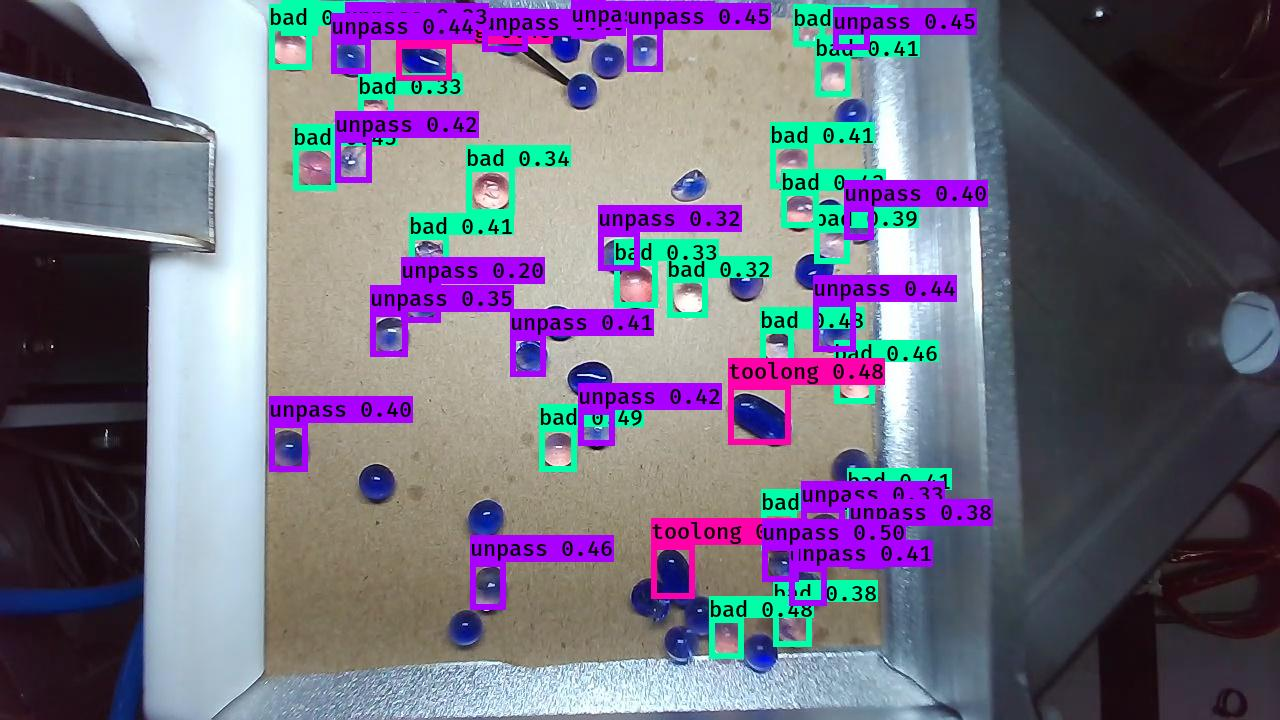bad: (769, 600, 816, 647), (766, 144, 813, 189), (295, 143, 342, 187), (469, 171, 514, 214), (793, 1, 830, 50), (272, 29, 313, 70), (706, 617, 747, 658), (617, 266, 658, 307), (833, 368, 875, 406), (669, 282, 712, 319), (544, 426, 580, 468), (358, 96, 395, 136), (281, 1, 321, 37), (780, 192, 817, 230), (815, 228, 852, 266), (817, 57, 851, 98), (409, 239, 451, 272), (845, 497, 884, 532), (762, 330, 796, 367), (329, 118, 365, 152), (764, 516, 798, 549)
defact: (669, 167, 708, 202)
pass: (626, 574, 672, 627), (566, 357, 613, 402), (465, 498, 508, 542), (832, 448, 872, 495), (357, 462, 397, 506), (723, 261, 761, 304), (682, 594, 720, 636), (742, 633, 780, 675), (794, 250, 832, 291), (835, 95, 872, 137), (449, 607, 484, 651), (537, 302, 575, 340), (564, 71, 599, 112), (547, 24, 582, 64), (662, 625, 698, 662), (590, 43, 625, 77), (812, 196, 843, 231)
toolong: (728, 390, 795, 449), (396, 38, 458, 85), (654, 542, 695, 602)
unpass: (832, 3, 874, 59), (817, 305, 861, 355), (267, 428, 313, 473), (468, 564, 506, 614), (370, 316, 410, 358), (624, 32, 662, 74), (577, 410, 616, 450), (805, 512, 842, 552), (598, 238, 635, 278), (348, 1, 384, 42), (401, 284, 439, 322), (332, 40, 369, 79), (673, 244, 710, 283), (336, 141, 373, 180), (852, 530, 889, 569), (490, 17, 526, 57), (513, 338, 548, 378), (573, 4, 608, 43), (842, 209, 876, 248), (793, 568, 827, 604), (766, 549, 800, 583)
